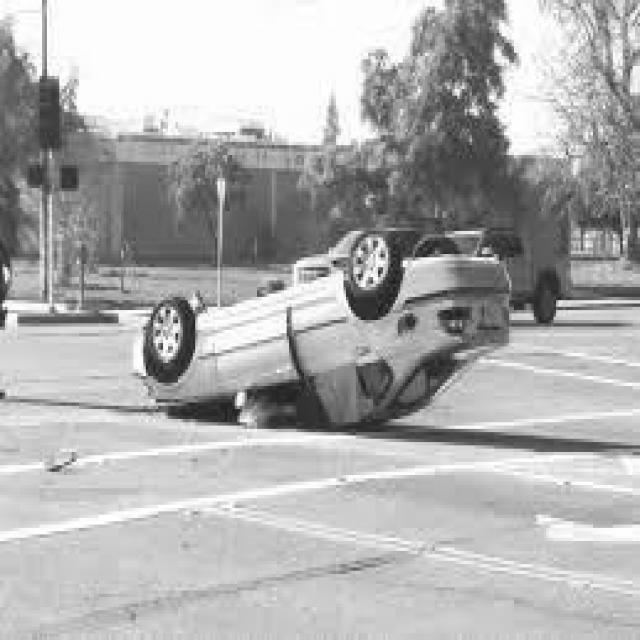accident: (130, 221, 516, 426)
vehicle: (477, 204, 573, 326)
